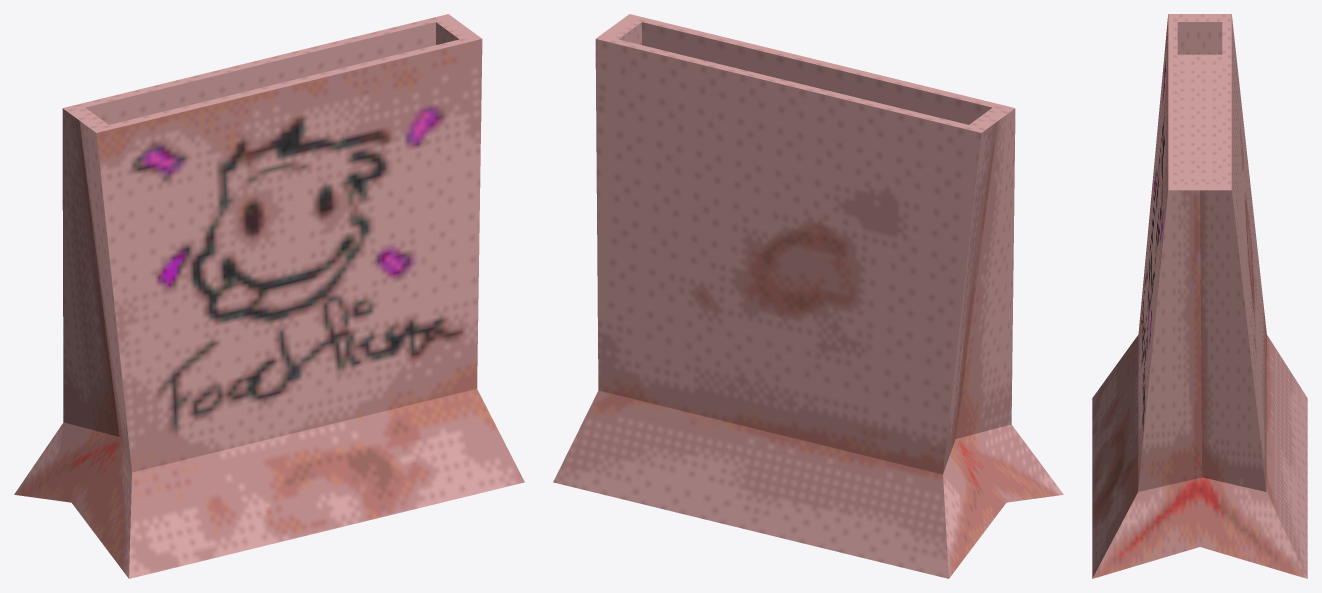
Rendered from bag 1.fbx.
3 renders of one model, left to right at view 1: azimuth 30°, elevation 25°; view 2: azimuth 150°, elevation 25°; view 3: azimuth 270°, elevation 25°, orthographic. The views are drawn at different scales.
Visible parts, largest first — view 1: Cube.001; view 2: Cube.001; view 3: Cube.001.
Boxes of the visible parts, box(x1,y1,x2,y2) form: Cube.001: box(14, 14, 524, 578); Cube.001: box(553, 14, 1063, 578); Cube.001: box(1092, 14, 1307, 578).
Size of the model in its own units: 200 by 200 by 101.
